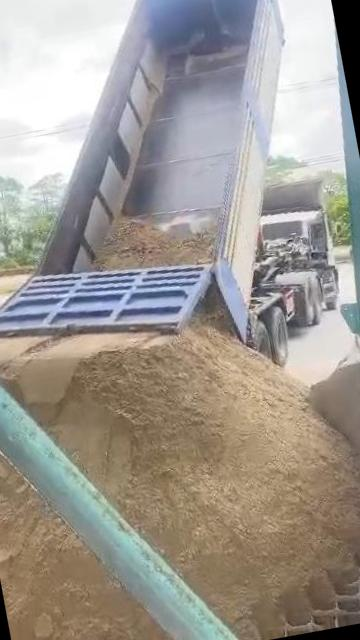sand: (0, 326, 360, 640), (0, 433, 160, 640), (309, 345, 360, 472), (95, 220, 215, 270), (198, 285, 234, 336)
